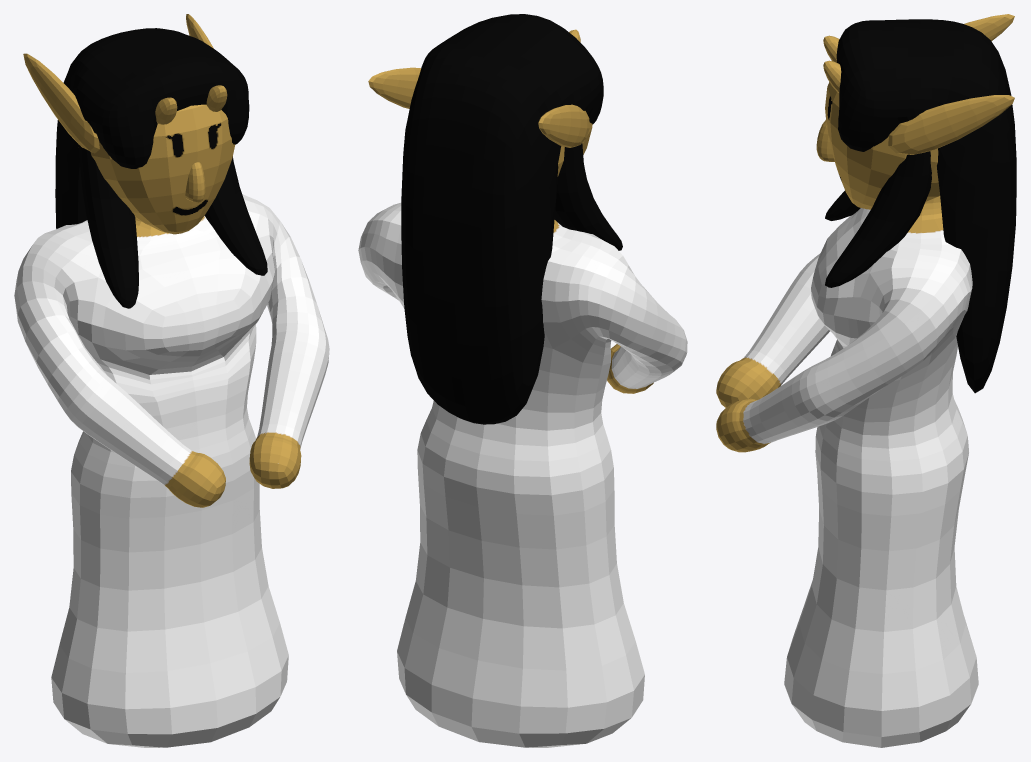
File: wuraj.fbx
3 views of the same model, side by side, from view 1: azimuth 30°, elevation 25°; view 2: azimuth 150°, elevation 25°; view 3: azimuth 270°, elevation 25° (orthographic). The views are drawn at different scales.
Visible parts, largest first — view 1: Body, Hair, Head, Right Ear, Nose; view 2: Body, Hair, Right Ear, Left Ear; view 3: Body, Hair, Head, Left Ear, Right Ear.
Boxes of the visible parts, left/top/right/bottom form: Body: left=14, top=194, right=329, bottom=747; Hair: left=55, top=28, right=267, bottom=308; Head: left=78, top=104, right=235, bottom=234; Right Ear: left=23, top=53, right=99, bottom=153; Nose: left=185, top=162, right=205, bottom=203; Body: left=358, top=203, right=687, bottom=747; Hair: left=401, top=14, right=622, bottom=424; Right Ear: left=538, top=104, right=589, bottom=147; Left Ear: left=368, top=67, right=420, bottom=108; Body: left=716, top=196, right=978, bottom=747; Hair: left=825, top=19, right=1016, bottom=393; Head: left=825, top=82, right=939, bottom=209; Left Ear: left=888, top=95, right=1014, bottom=154; Right Ear: left=964, top=14, right=1014, bottom=41.
Size of the model in its own units: 0.5104 by 1.2 by 0.4743.
1 material, 1 textured.
